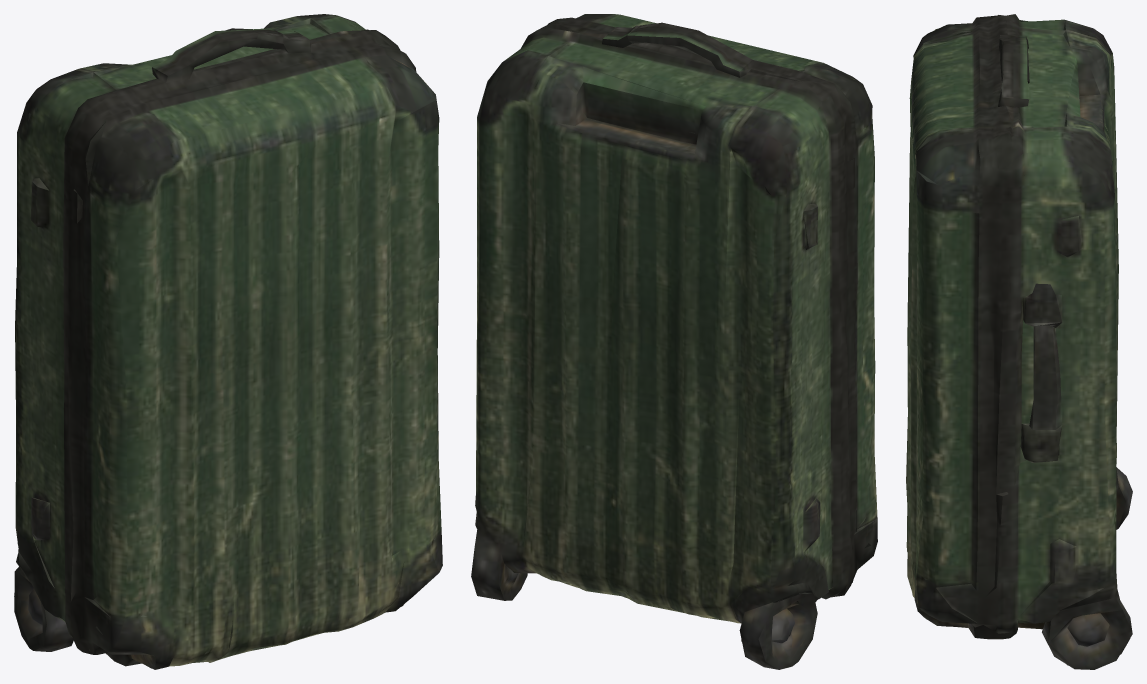
Rendered from p7-rolling-suitcase.glb.
3 views of the same model, side by side, from view 1: azimuth 30°, elevation 25°; view 2: azimuth 150°, elevation 25°; view 3: azimuth 270°, elevation 25° (orthographic). The views are drawn at different scales.
Parts seen in each view (by area): view 1: p7-rolling-suitcase; view 2: p7-rolling-suitcase; view 3: p7-rolling-suitcase.
Part boxes in pixels (<box>): p7-rolling-suitcase: <box>14,14,442,669</box>; p7-rolling-suitcase: <box>471,14,877,669</box>; p7-rolling-suitcase: <box>906,14,1132,669</box>.
Bounding box in the file's own units: 0.45 × 0.75 × 0.28.
Materials: 1 (1 with a texture image).
